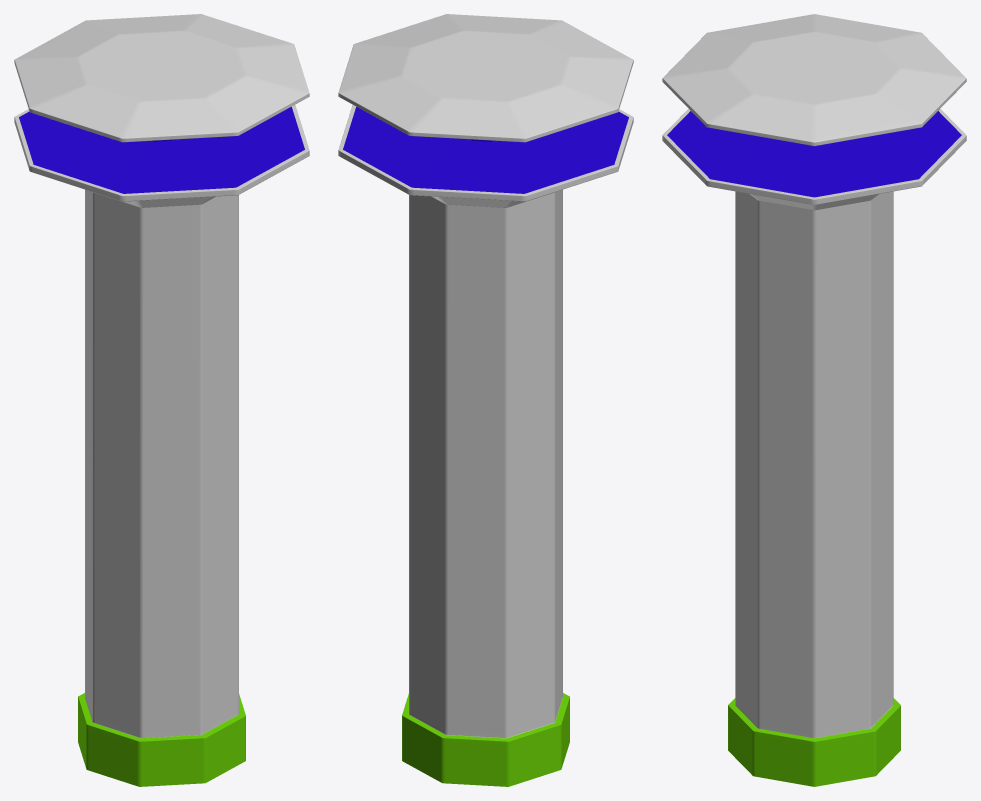
Rendered from ControlTower.fbx.
3 renders of one model, left to right at view 1: azimuth 30°, elevation 25°; view 2: azimuth 150°, elevation 25°; view 3: azimuth 270°, elevation 25°, orthographic.
Visible parts, largest first — view 1: ControlTower; view 2: ControlTower; view 3: ControlTower.
Boxes of the visible parts, x1,y1,x2,y2 form: ControlTower: (14,14,309,786); ControlTower: (338,14,633,786); ControlTower: (662,14,966,786).
Size of the model in its own units: 1404 by 3470 by 1404.
